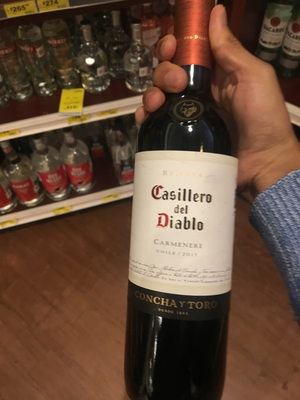casillero del diablo carmenere: (113, 3, 251, 377)
